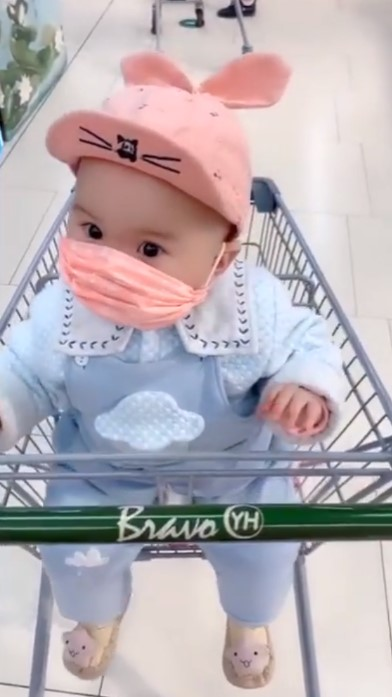face_with_mask: (46, 93, 253, 329)
